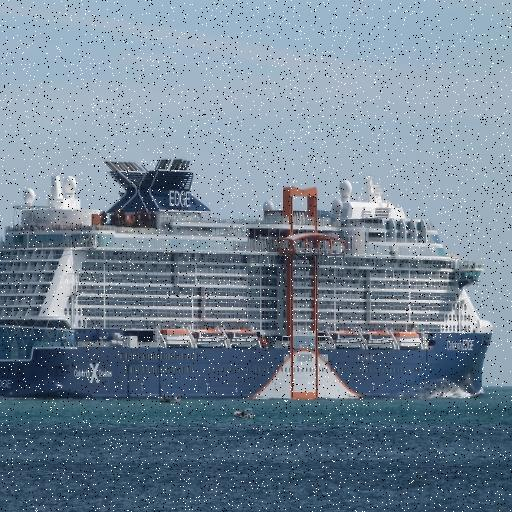cruises: (1, 162, 497, 406)
